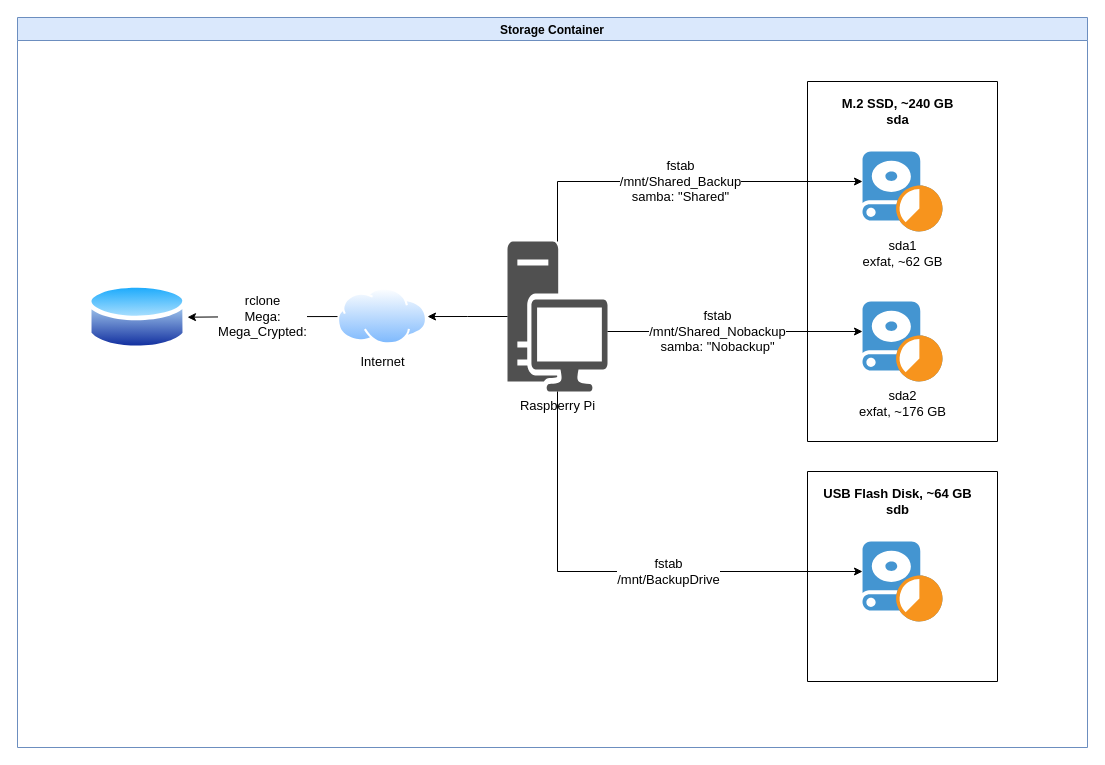
Image size: 1105x765. Some labels were removed from this diagram. The centre of each missing label's shape, as x and y in pixels:
Mega.nz: the point at 137,317
sdb1 exfat, 100% vol. size: the point at 902,581
